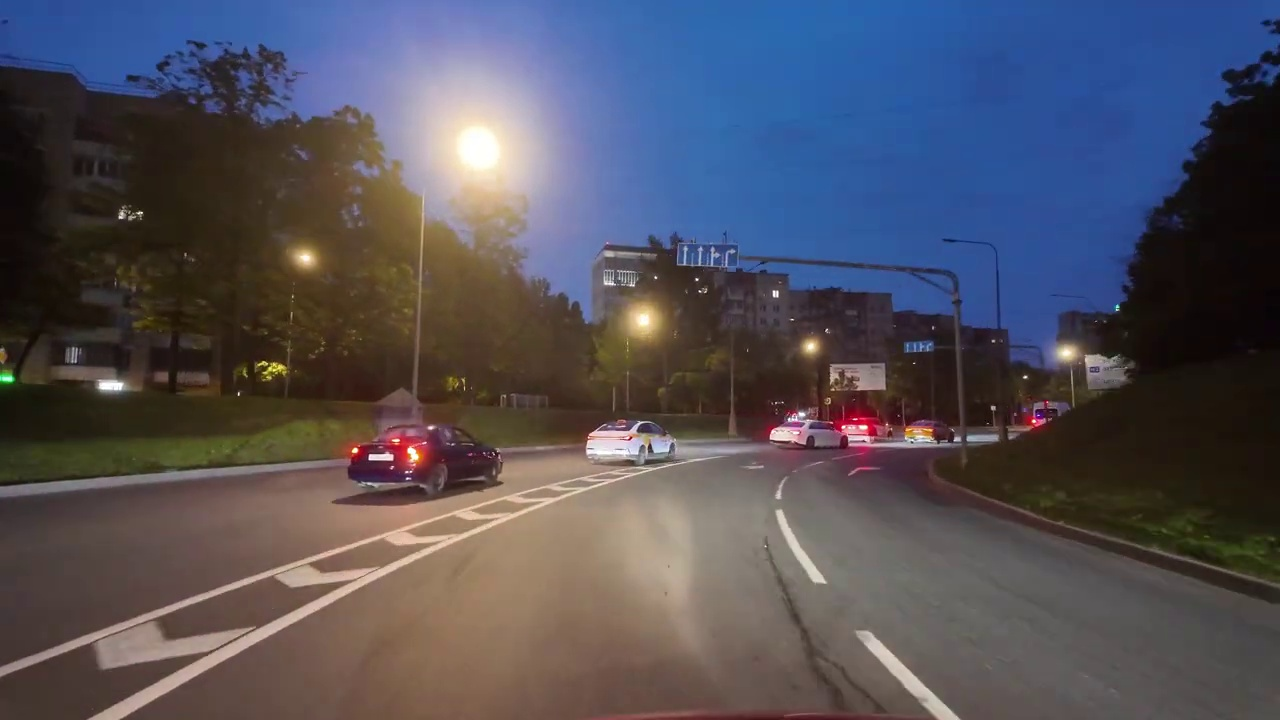acesa: (445, 121, 506, 183), (624, 304, 662, 340), (290, 244, 322, 274), (798, 334, 824, 360)
apagada: (943, 229, 971, 252)
